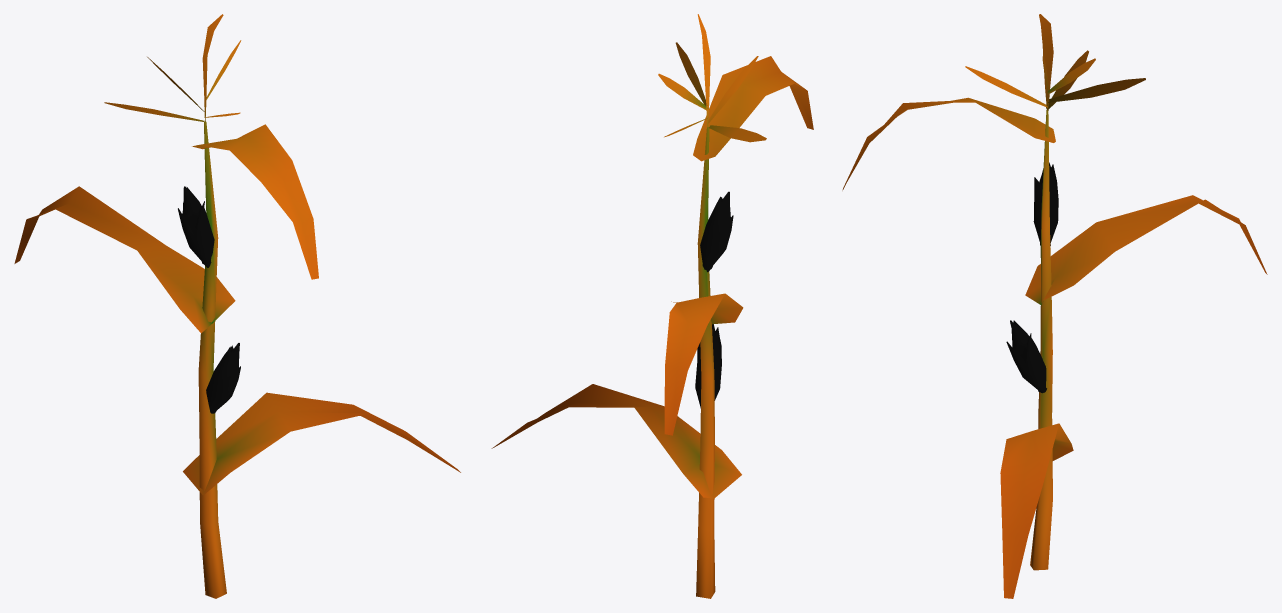
File: SM_CornPlant_9.fbx
3 renders of one model, left to right at view 1: azimuth 30°, elevation 25°; view 2: azimuth 150°, elevation 25°; view 3: azimuth 270°, elevation 25°, orthographic. The views are drawn at different scales.
Visible parts, largest first — view 1: SM_CornPlant_9; view 2: SM_CornPlant_9; view 3: SM_CornPlant_9.
Part boxes in pixels (x1,y1,x2,y2): SM_CornPlant_9: [14, 14, 460, 598]; SM_CornPlant_9: [491, 14, 813, 598]; SM_CornPlant_9: [842, 14, 1267, 598].
Bounding box in the file's own units: 0.8661 × 1.52 × 1.05.
